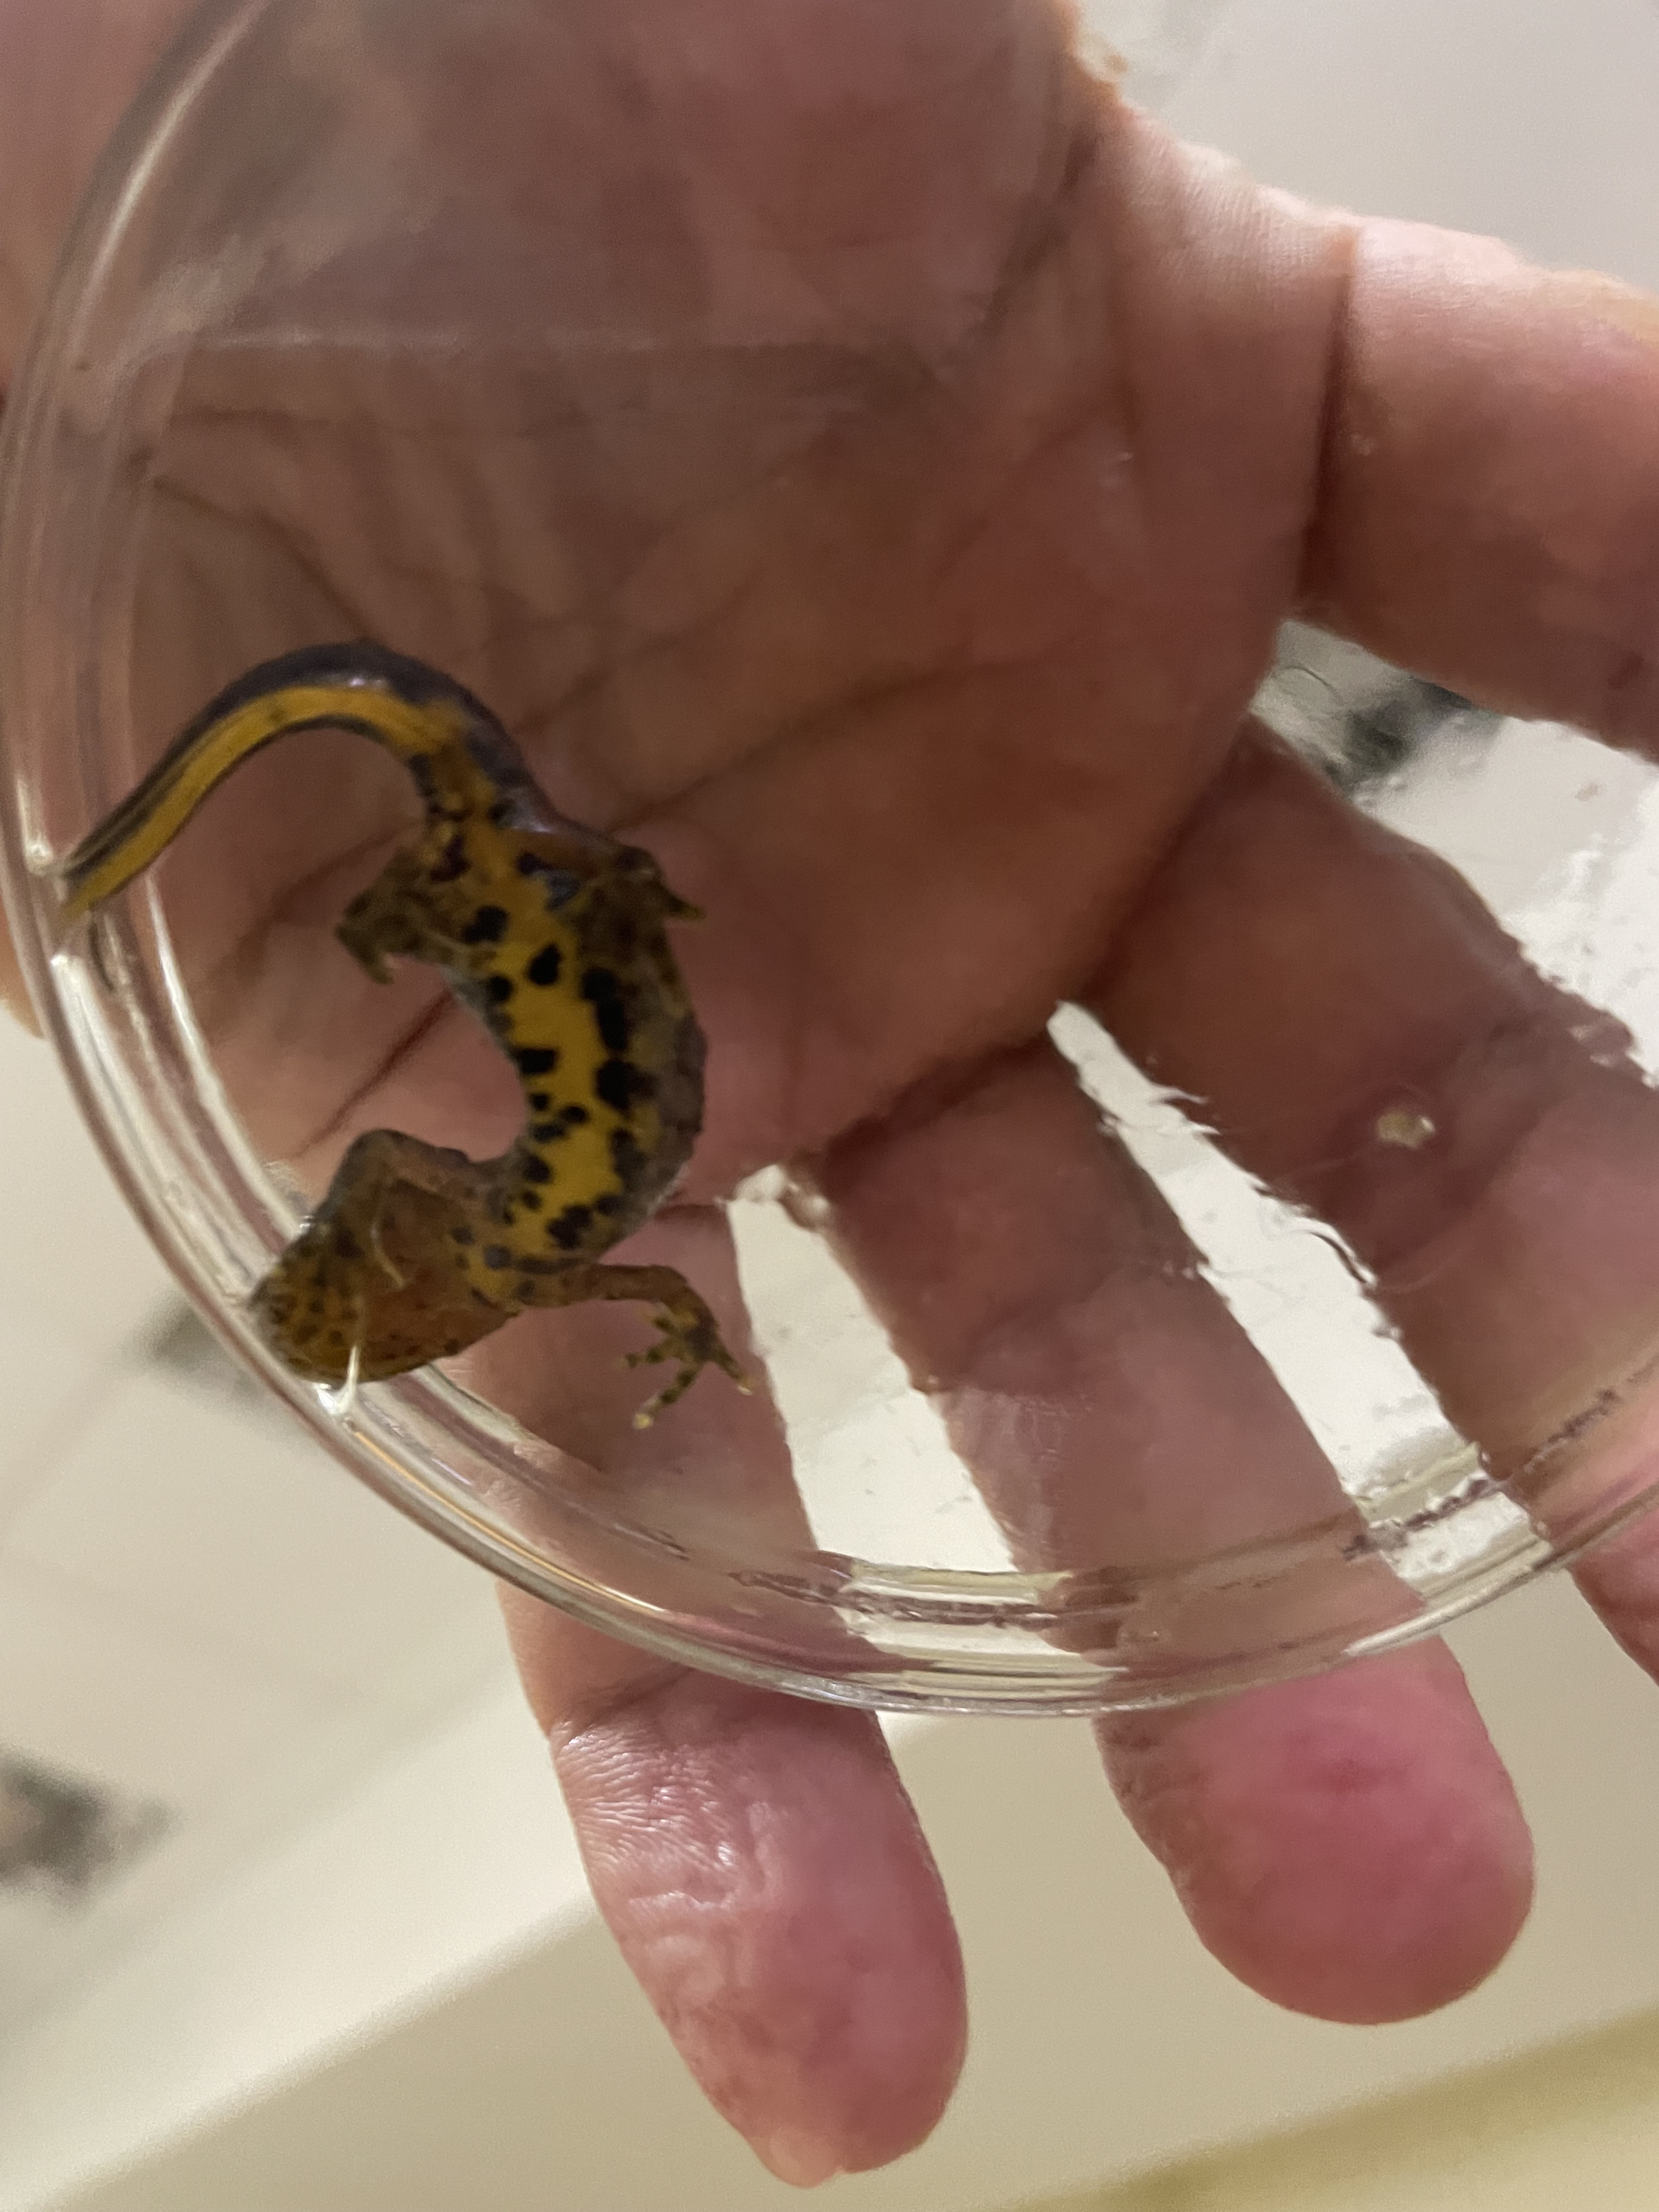Karelin_newt: (432, 928, 702, 1258)
